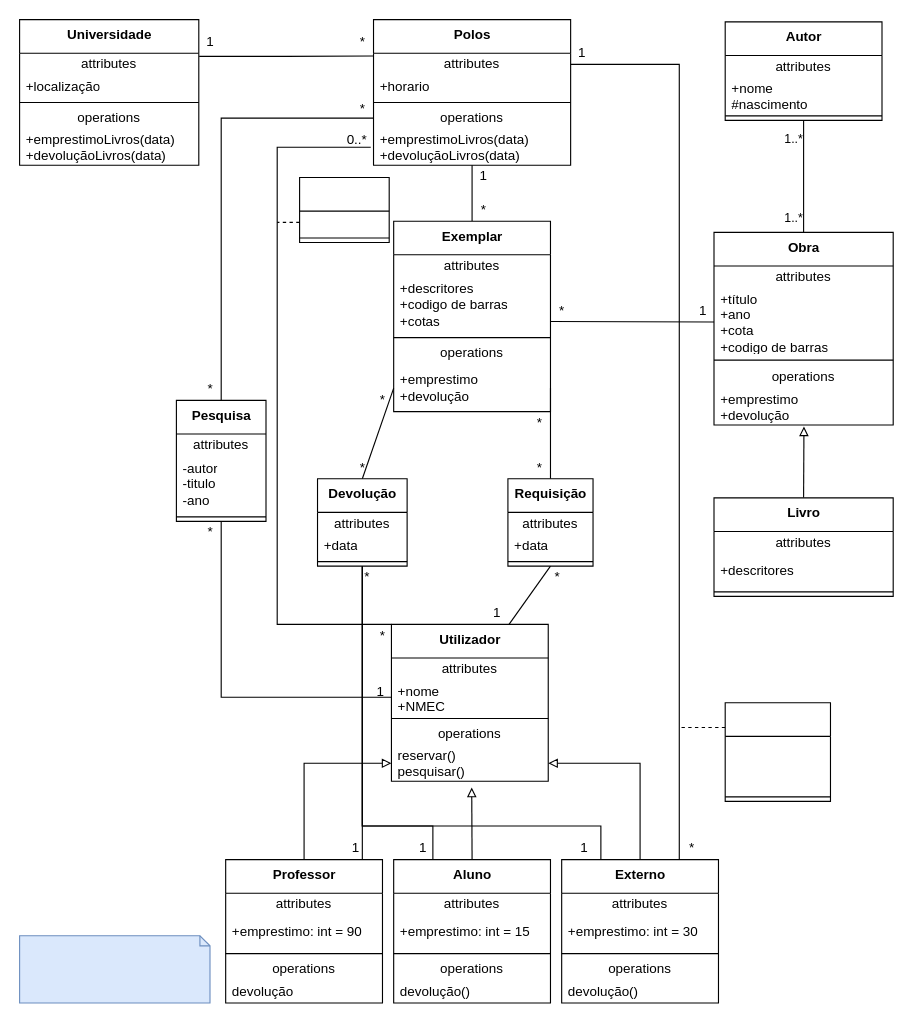
The diagram is 913 pixels wide and 1023 high, and some of its shapes have lost their labels. The centre of each missing label's shape, as x and y in pixels:
"-Comprovativo de Identidade e Morada" belongs at (777,751).
"-Multa" belongs at (343,209).
"AS-Ex 3.2 Grupo 601 (DF, DC, ST, FC) v2022/03/23" belongs at (114,969).
